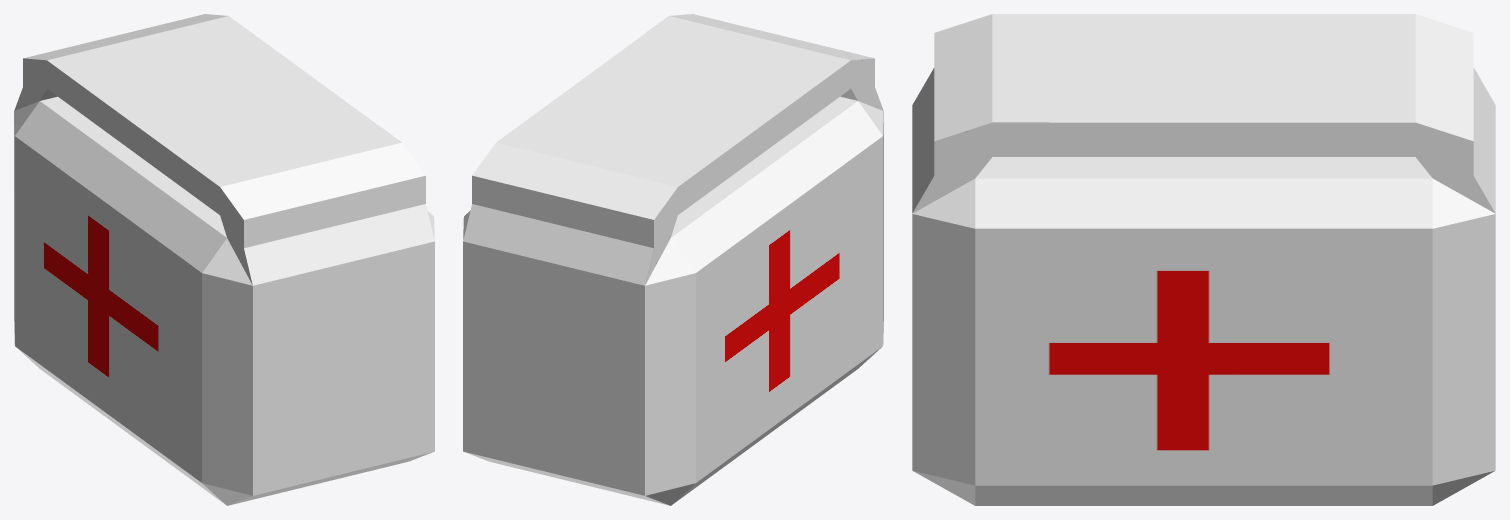
3 views of the same model, side by side, from view 1: azimuth 30°, elevation 25°; view 2: azimuth 150°, elevation 25°; view 3: azimuth 270°, elevation 25° (orthographic). The views are drawn at different scales.
Visible parts, largest first — view 1: Cube; view 2: Cube; view 3: Cube.
Boxes of the visible parts, box(x1,y1,x2,y2) form: Cube: box(14, 14, 434, 505); Cube: box(463, 14, 883, 505); Cube: box(912, 14, 1495, 505).
Size of the model in its own units: 9.43 by 12.18 by 16.8.
1 material, 1 textured.
